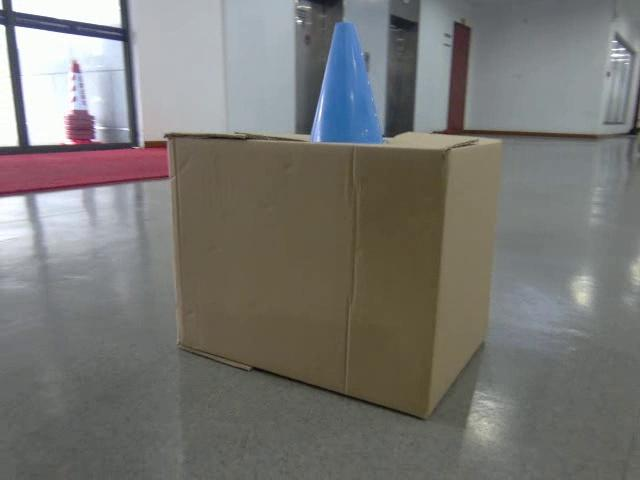blue_barrel: (298, 23, 392, 145)
